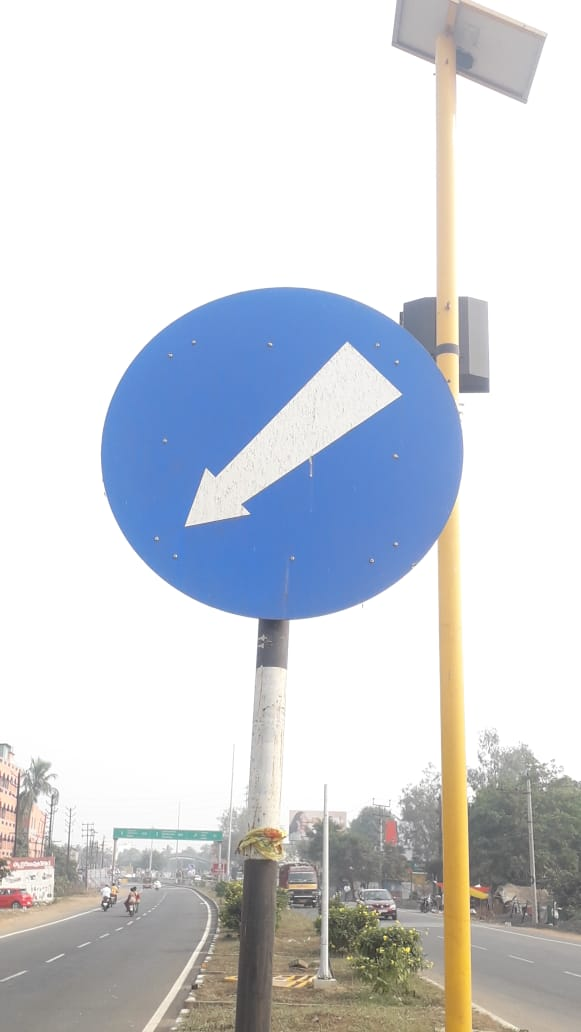go left: (99, 276, 483, 625)
